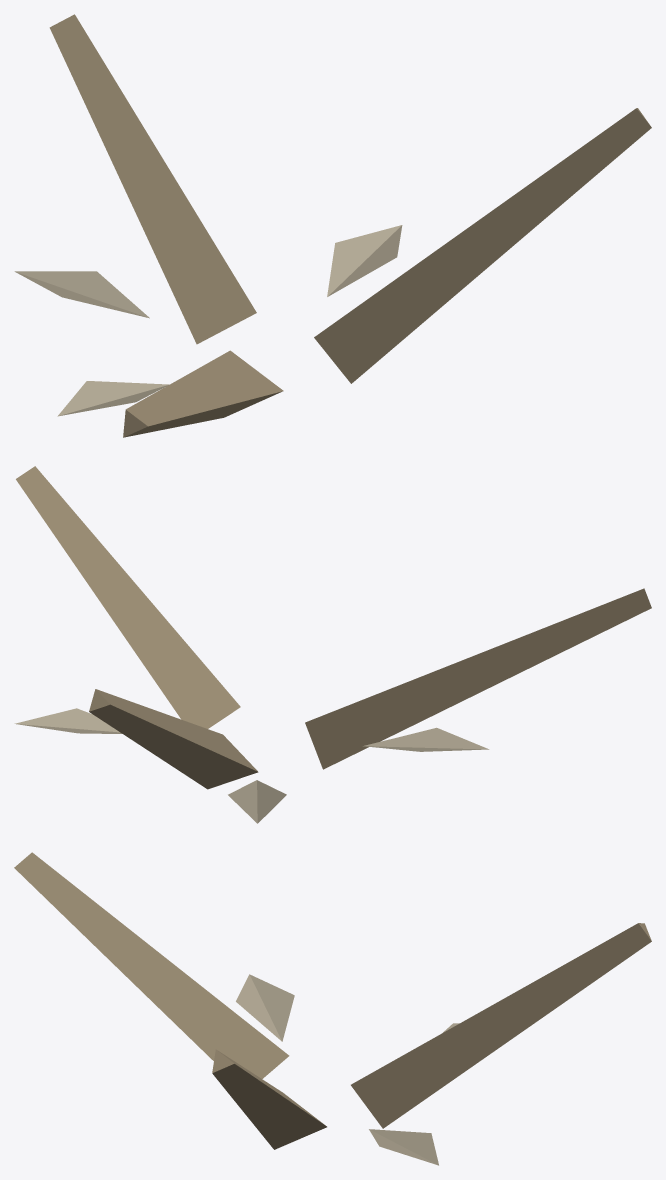
The model's file is guan.fusang@withered__winter.glb.
3 views of the same model, one above another, from view 1: azimuth 30°, elevation 25°; view 2: azimuth 150°, elevation 25°; view 3: azimuth 270°, elevation 25° (orthographic). The views are drawn at different scales.
Visible parts, largest first — view 1: guan.fusang@withered__winter; view 2: guan.fusang@withered__winter; view 3: guan.fusang@withered__winter.
Part boxes in pixels (x1,y1,x2,y2): guan.fusang@withered__winter: (14,14,651,437); guan.fusang@withered__winter: (14,466,651,823); guan.fusang@withered__winter: (14,852,651,1165).
Bounding box in the file's own units: 0.9662 × 0.3527 × 0.9727.
